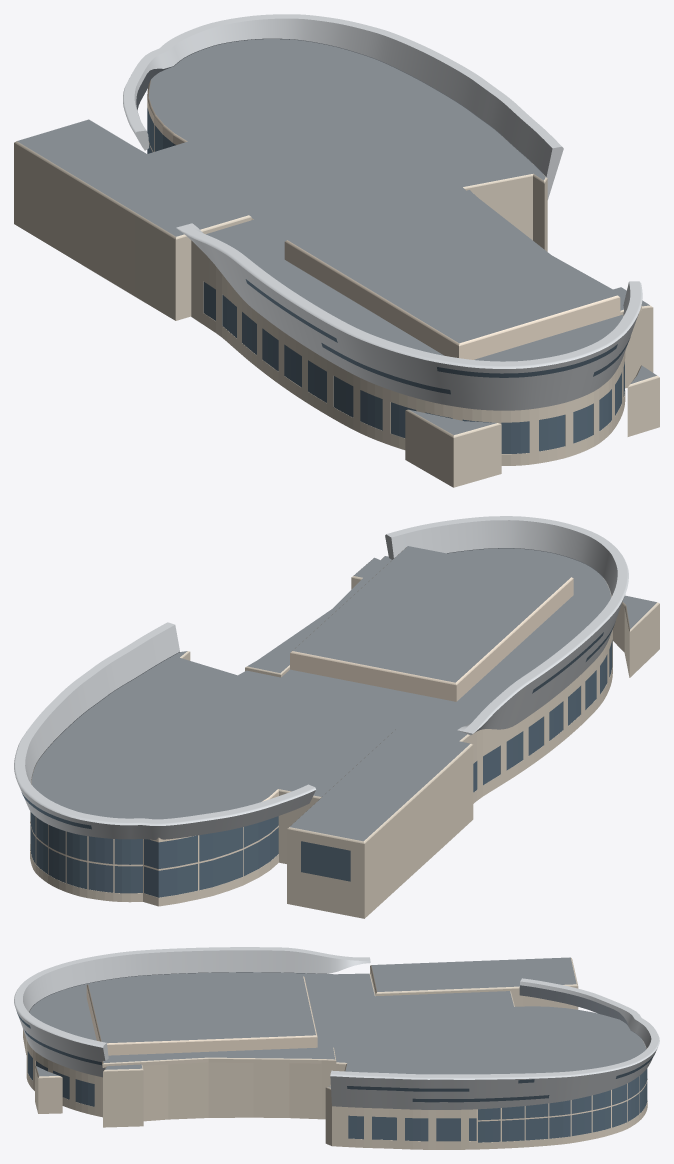
The model's file is nascar-hall-of-fame.glb.
The picture shows the model from 3 angles, top to bottom: view 1: azimuth 30°, elevation 25°; view 2: azimuth 150°, elevation 25°; view 3: azimuth 270°, elevation 25°; orthographic projection. The views are drawn at different scales.
Visible parts, largest first — view 1: NASCAR Hall of Fame; view 2: NASCAR Hall of Fame; view 3: NASCAR Hall of Fame.
Part boxes in pixels (x1,y1,x2,y2): NASCAR Hall of Fame: (14,14,659,487); NASCAR Hall of Fame: (14,516,659,918); NASCAR Hall of Fame: (14,947,659,1149).
Bounding box in the file's own units: 104 × 27 × 205.
